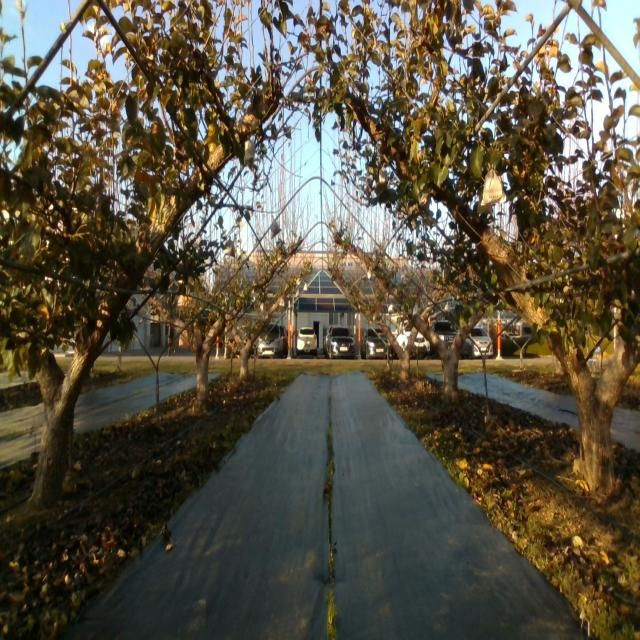pearbags: (481, 164, 506, 206), (243, 140, 255, 168), (223, 240, 236, 260), (271, 219, 281, 240)
